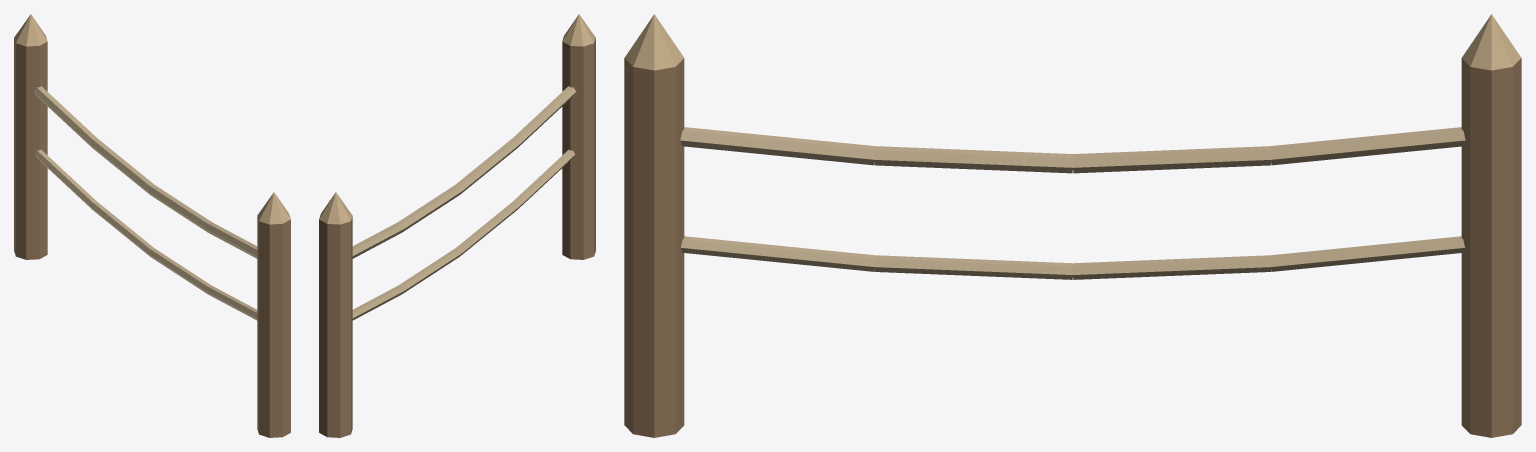
Rendered from fence_segment_rope_2m.glb.
3 views of the same model, side by side, from view 1: azimuth 30°, elevation 25°; view 2: azimuth 150°, elevation 25°; view 3: azimuth 270°, elevation 25° (orthographic). The views are drawn at different scales.
Visible parts, largest first — view 1: fence_segment_rope_2m; view 2: fence_segment_rope_2m; view 3: fence_segment_rope_2m.
Part boxes in pixels (left/top/right/bottom): fence_segment_rope_2m: left=14, top=14, right=290, bottom=437; fence_segment_rope_2m: left=319, top=14, right=595, bottom=437; fence_segment_rope_2m: left=624, top=14, right=1521, bottom=437.
Size of the model in its own units: 0.136 by 1.03 by 2.04.
